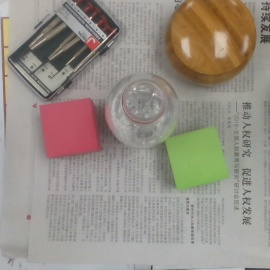bottle: (104, 73, 178, 149)
chess: (164, 1, 257, 87)
